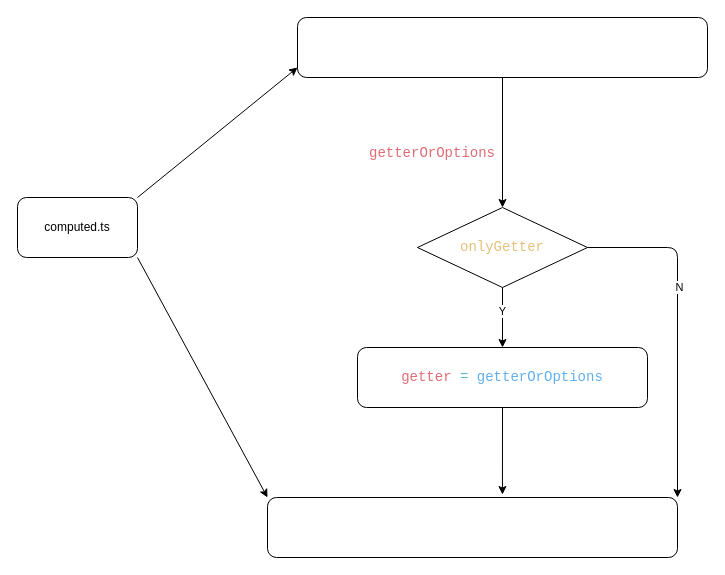
Some shapes in this 725 by 575 pixel diagram are drawn without their labels. The shapes that lost their labels are listed below. From the top down, each one's centre as x and y in pixels, then its label:
At point (502, 47): "computed ( getterOrOptions )".
At point (472, 527): "class ComputedRefImpl < T >".
